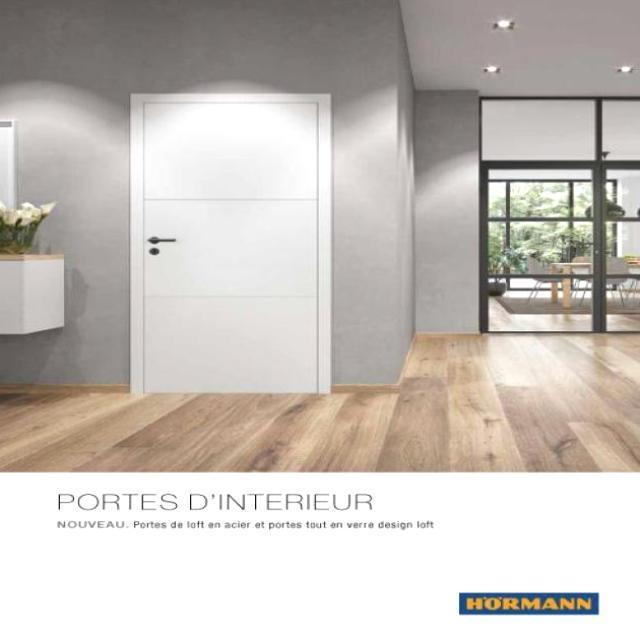door: (129, 92, 331, 395)
